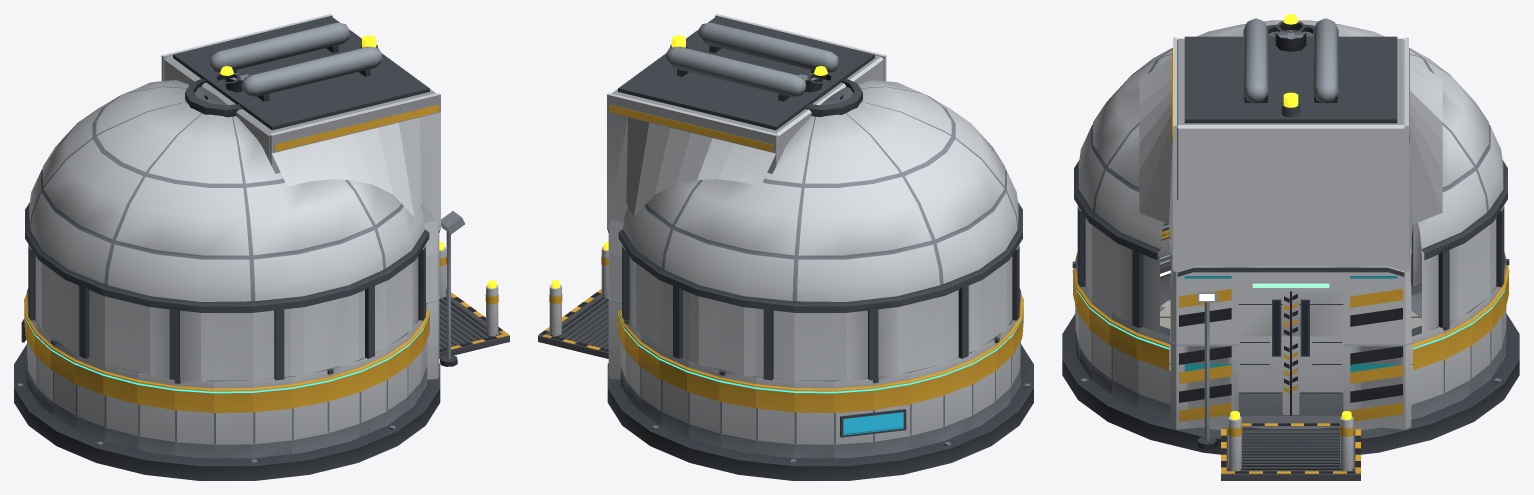
File: airlock_m.glb
3 renders of one model, left to right at view 1: azimuth 30°, elevation 25°; view 2: azimuth 150°, elevation 25°; view 3: azimuth 270°, elevation 25°, orthographic. The views are drawn at different scales.
Parts seen in each view (by area): view 1: Roof, Base, Porch, Wall_21, Wall_20, Wall_22, Upper_20, Upper_21, Upper_22, Wall_19, Wall_23, Upper_19 (+23 smaller); view 2: Roof, Base, Porch, Wall_10, Wall_09, Upper_11, Upper_10, Upper_09, Wall_08, Upper_12, Upper_08, Wall_13 (+23 smaller); view 3: Roof, OuterFrameTop, OuterFrame, Base, Porch, OuterDoorL, OuterDoorR, Wall_03, Wall_28, OuterDoorLTop, OuterDoorRTop, Wall_27 (+17 smaller).
Boxes of the visible parts, x1,y1,x2,y2 form: Roof: (25,14,440,306); Base: (14,344,440,480); Porch: (439,242,509,366); Wall_21: (214,380,253,458); Wall_20: (174,378,213,458); Wall_22: (253,376,292,458); Upper_20: (174,303,213,381); Upper_21: (214,306,253,380); Upper_22: (253,302,292,380); Wall_19: (137,372,175,455); Wall_23: (291,369,328,453); Upper_19: (137,298,174,379); Roof: (607,14,1022,306); Base: (607,344,1033,480); Porch: (538,242,608,358); Wall_10: (794,380,833,458); Wall_09: (755,376,794,458); Upper_11: (834,303,873,381); Upper_10: (794,306,833,380); Upper_09: (755,302,794,380); Wall_08: (719,369,756,453); Upper_12: (873,298,910,379); Upper_08: (719,295,756,376); Wall_13: (909,364,944,449); Roof: (1074,18,1507,271); OuterFrameTop: (1170,195,1411,344); OuterFrame: (1170,344,1411,430); Base: (1062,274,1519,454); Porch: (1197,357,1360,480); OuterDoorL: (1238,336,1290,415); OuterDoorR: (1291,336,1343,415); Wall_03: (1411,325,1445,419); Wall_28: (1136,325,1170,419); OuterDoorLTop: (1238,291,1290,336); OuterDoorRTop: (1291,291,1343,336); Wall_27: (1109,312,1138,408).
Bounding box in the file's own units: 7.71 × 5.51 × 6.54.
